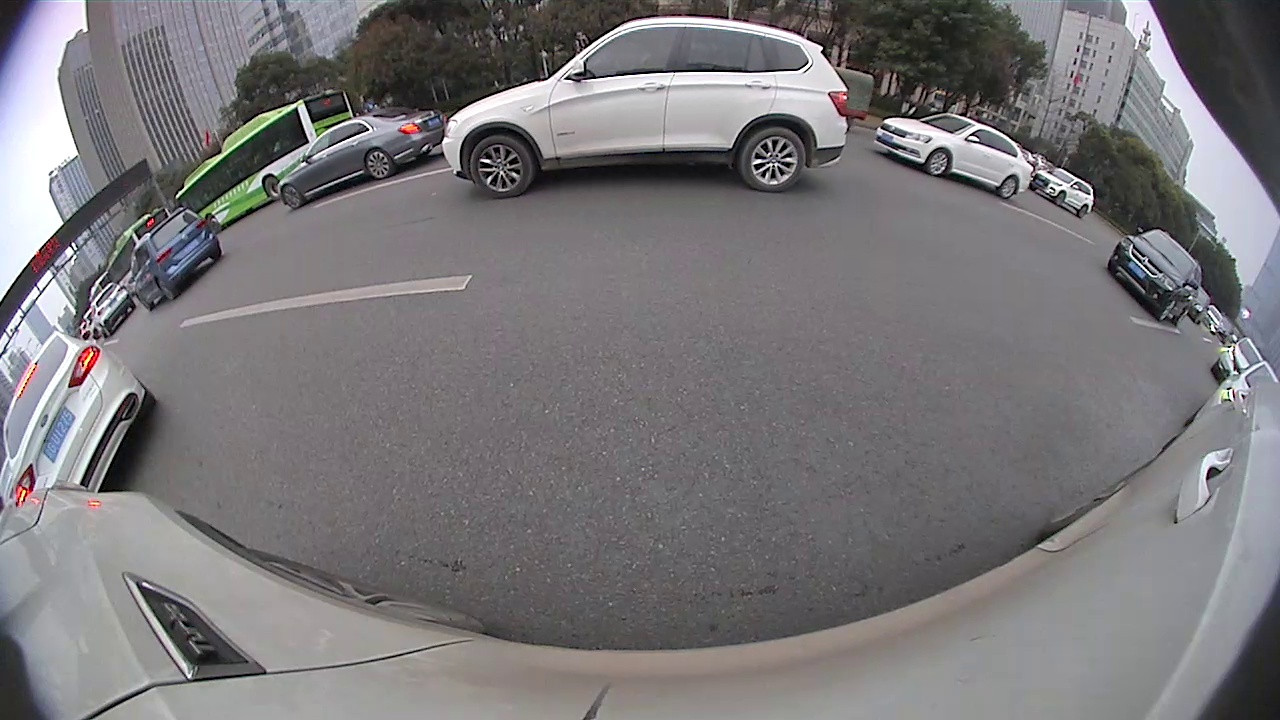bus: (174, 86, 356, 233)
car: (439, 14, 849, 199), (5, 330, 158, 507), (276, 111, 448, 211), (874, 107, 1035, 204), (129, 202, 222, 313), (1105, 226, 1200, 330)
front: (468, 133, 534, 198), (924, 150, 951, 178), (278, 183, 303, 211)
rear: (740, 125, 808, 193), (364, 148, 395, 178), (998, 176, 1018, 201)
